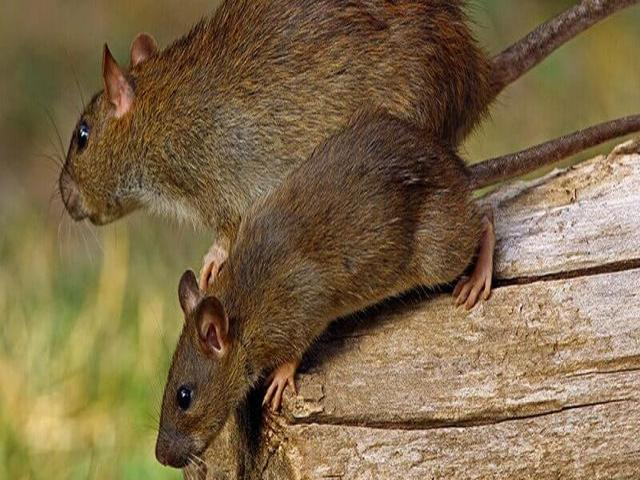Tikus: (156, 115, 640, 469), (60, 0, 639, 283)
